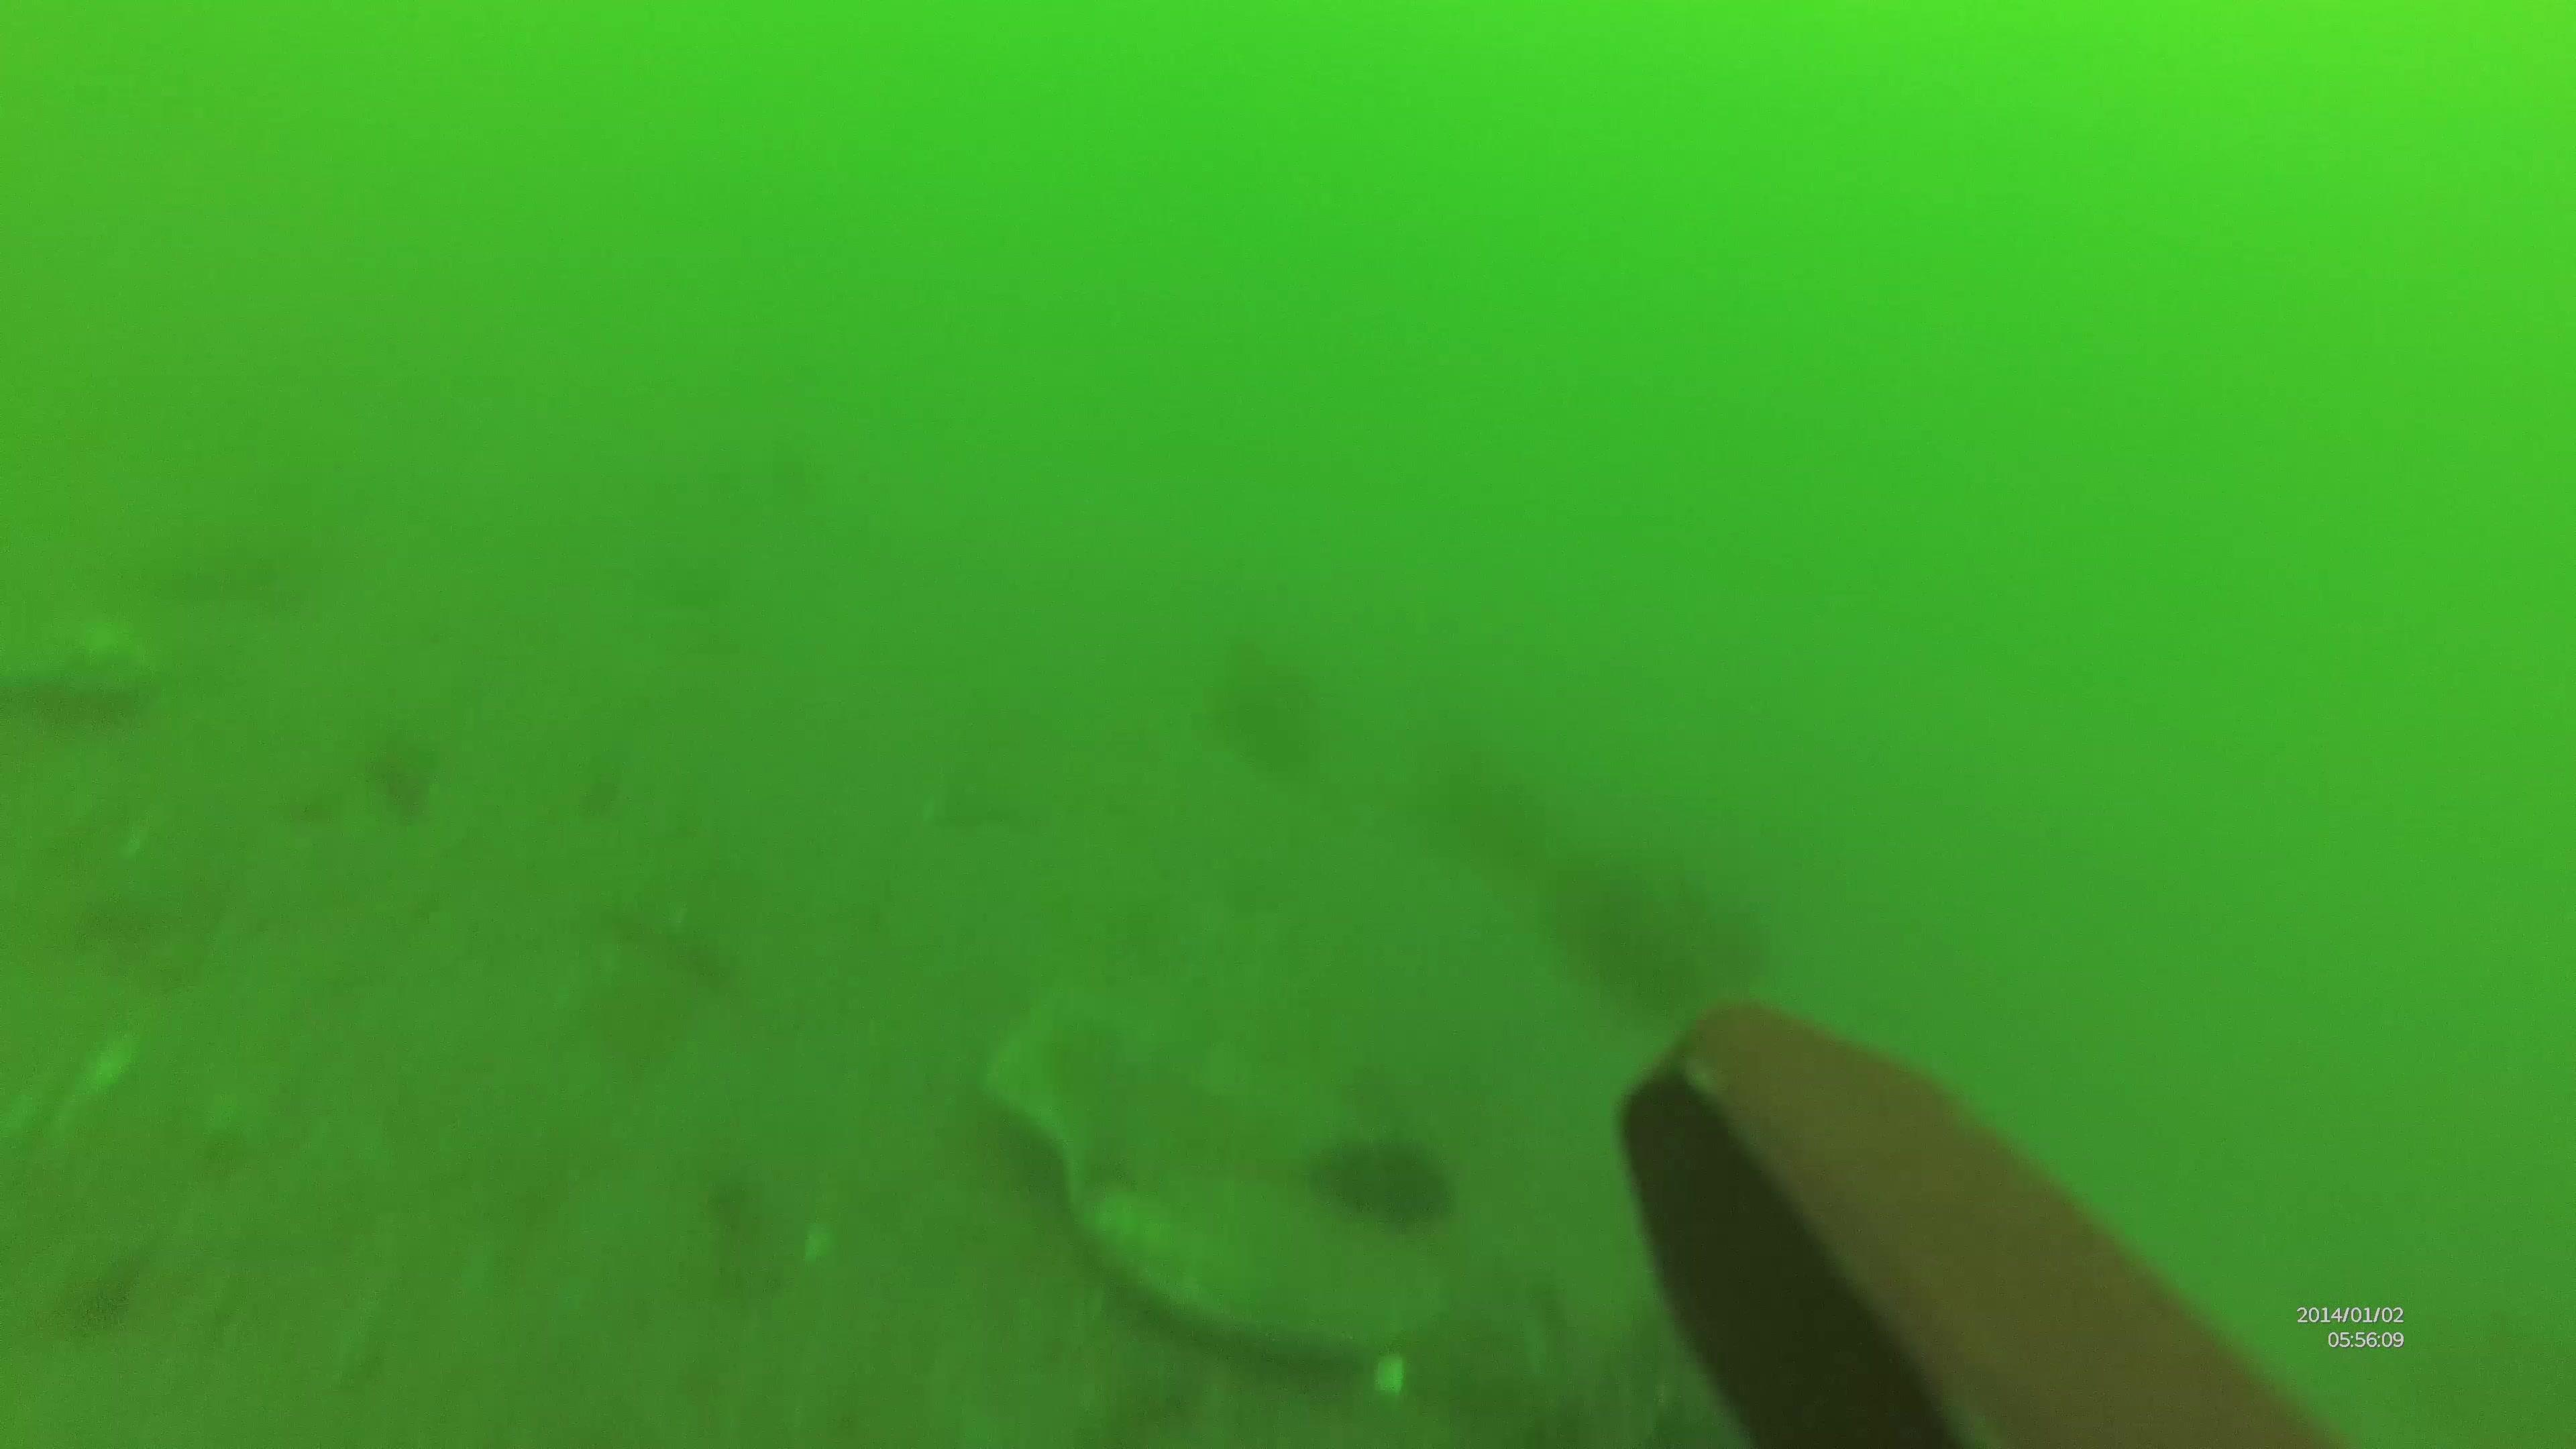echinus: (1548, 858, 1787, 1016), (1322, 1139, 1451, 1235)
scallop: (1088, 1161, 1444, 1380)
